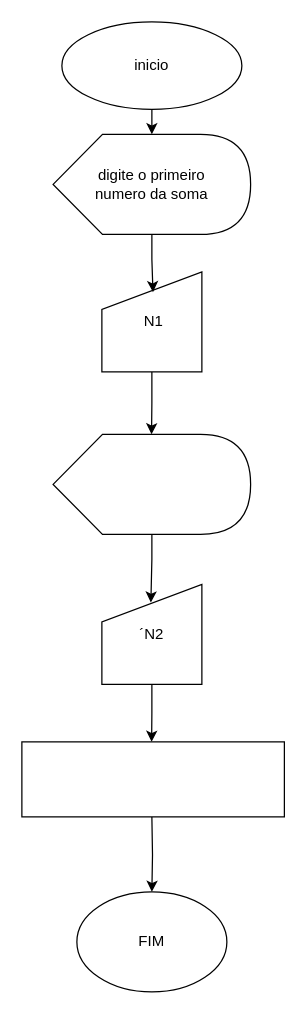
Image size: 306x1014. Some labels were removed from this diagram. Each missing label, with the centre of its shape:
"digite o segundo numero da soma" belongs at pixel 151 483.
"soma<-N1+N2" belongs at pixel 152 779.
